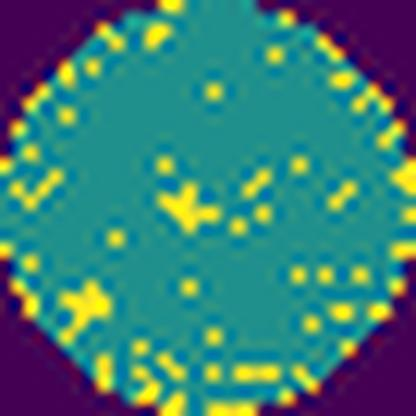Center: (157, 176, 230, 243)
